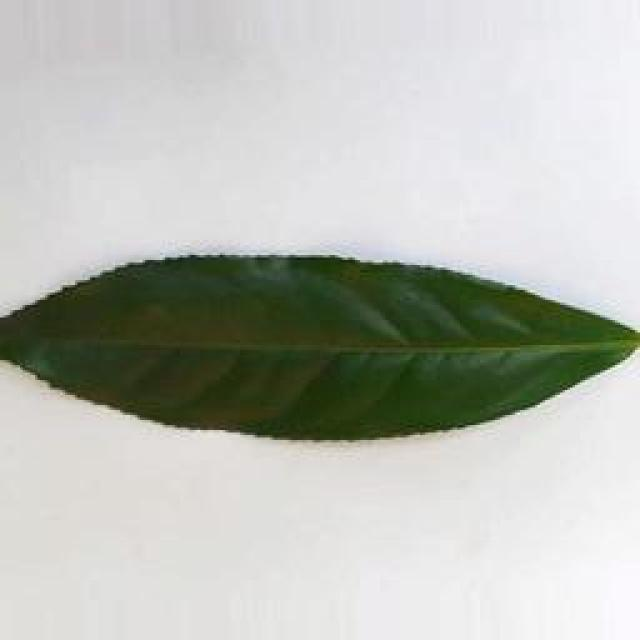Healthy: (2, 235, 640, 452)
